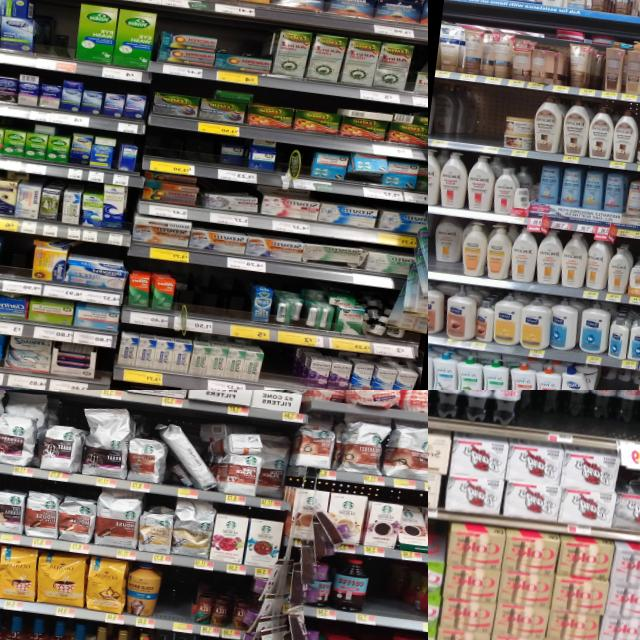100% O.O.S: (468, 88, 506, 154), (157, 570, 195, 632), (362, 559, 395, 626), (428, 219, 434, 277)
100- O.O.S: (170, 266, 229, 334), (140, 126, 212, 178), (29, 0, 80, 71), (272, 142, 314, 190), (257, 341, 295, 390), (224, 272, 252, 338), (0, 241, 34, 294)
